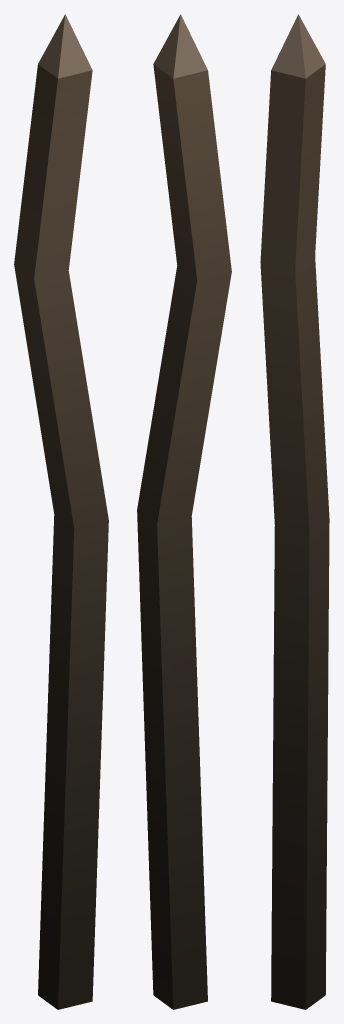
Rendered from SD_Env_Goblin_SpikeBeam_01.fbx.
3 views of the same model, side by side, from view 1: azimuth 30°, elevation 25°; view 2: azimuth 210°, elevation 25°; view 3: azimuth 330°, elevation 25° (orthographic).
Visible parts, largest first — view 1: SD_Env_Goblin_SpikeBeam_01; view 2: SD_Env_Goblin_SpikeBeam_01; view 3: SD_Env_Goblin_SpikeBeam_01.
Part boxes in pixels (box(x1,y1,x2,y2)): SD_Env_Goblin_SpikeBeam_01: box(14, 14, 108, 1009); SD_Env_Goblin_SpikeBeam_01: box(137, 14, 231, 1009); SD_Env_Goblin_SpikeBeam_01: box(260, 14, 329, 1009).
Bounding box in the file's own units: 1.11 × 16.9 × 1.02.
